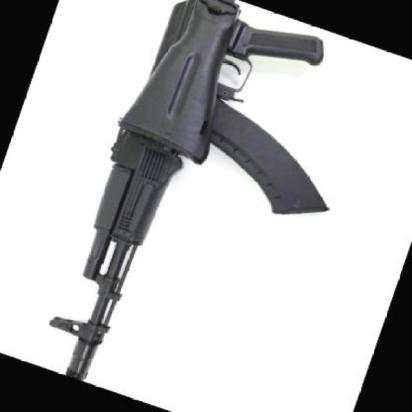Gun: (0, 0, 388, 412)
